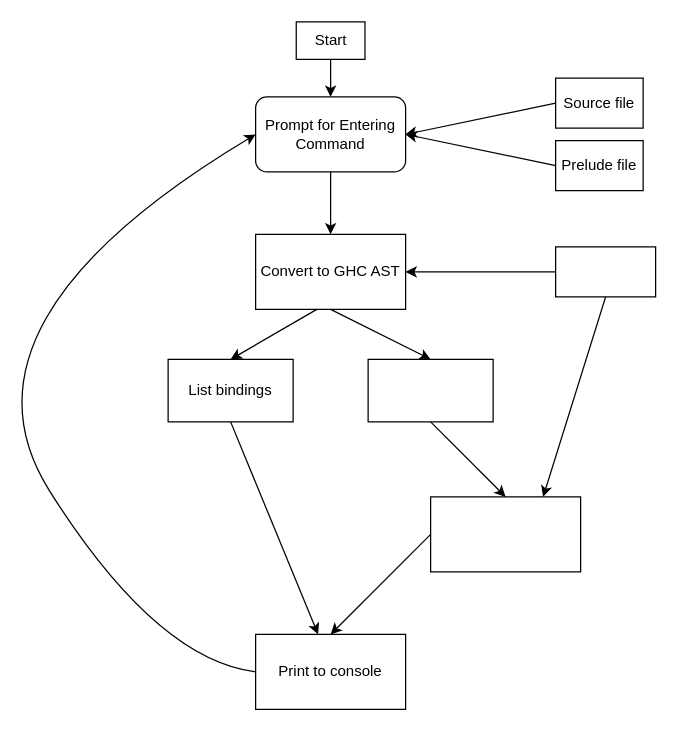
This 678x731 diagram has some shape labels left out. Each missing label, with the centre of its shape:
GHC API: the point at 605,271
Print step by step: the point at 430,390
Reduce step by step via AST manipulation: the point at 505,534
